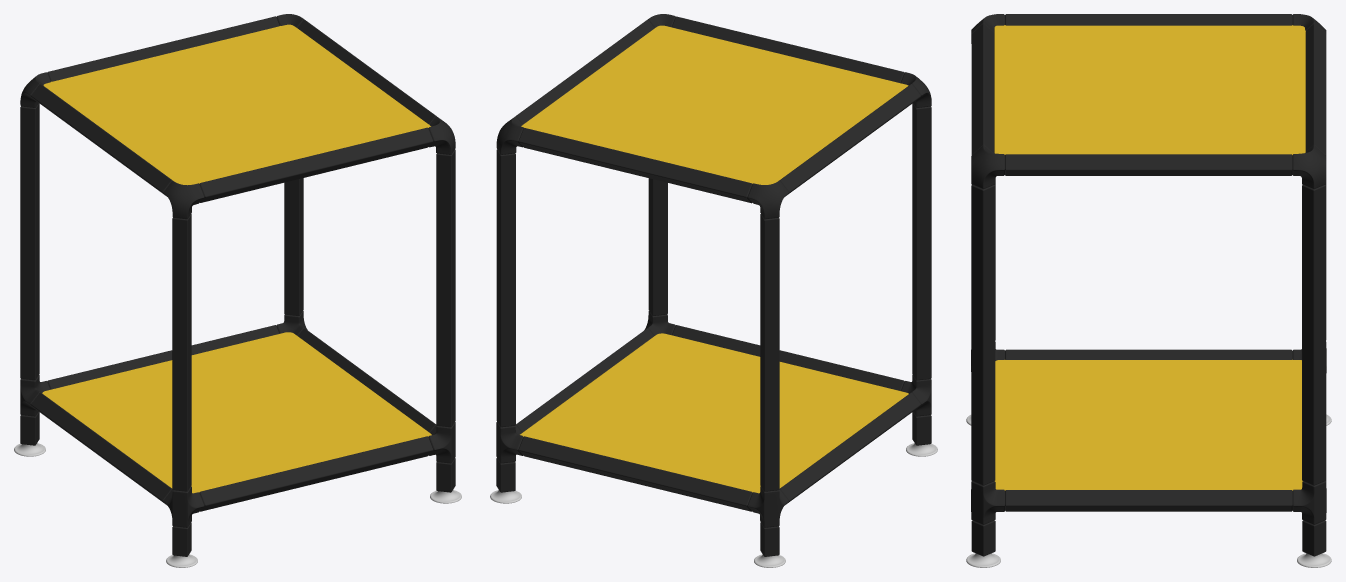
3 renders of one model, left to right at view 1: azimuth 30°, elevation 25°; view 2: azimuth 150°, elevation 25°; view 3: azimuth 270°, elevation 25°, orthographic. The views are drawn at different scales.
Visible parts, largest first — view 1: 329x329x374; view 2: 329x329x374; view 3: 329x329x374.
Boxes of the visible parts, box(x1,y1,x2,y2) form: 329x329x374: box(14, 14, 461, 567); 329x329x374: box(490, 14, 937, 567); 329x329x374: box(966, 14, 1331, 567).
Size of the model in its own units: 0.4189 by 0.5133 by 0.4182.
